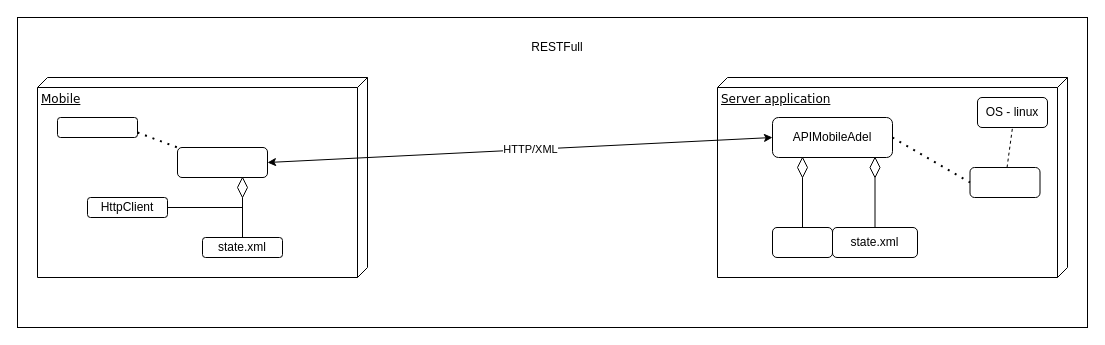
This 1105x345 diagram has some shape labels left out. The shapes that lost their labels are listed below. From the top down, each one's box as (x1, y1, x2, y2) in pixels, then its label:
(56, 116, 138, 138): Android | IOS
(176, 146, 268, 178): AdelMobile
(969, 166, 1040, 198): SA-Kernel
(772, 226, 832, 258): Web API CORE
